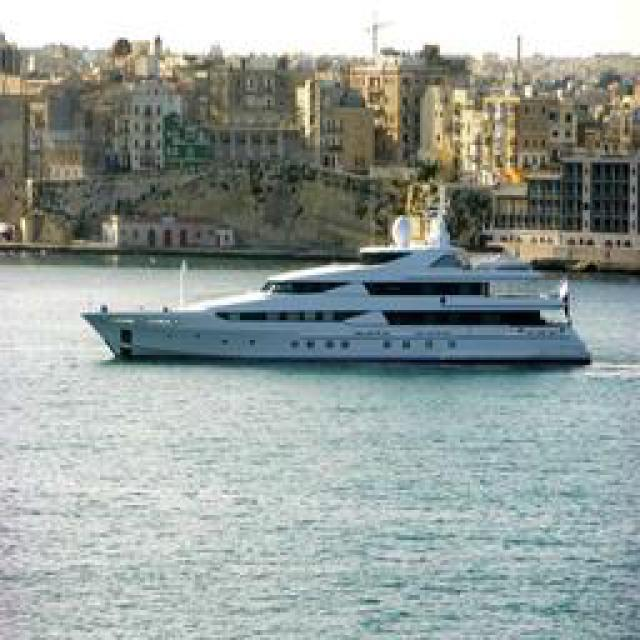Ship: (92, 245, 590, 370)
